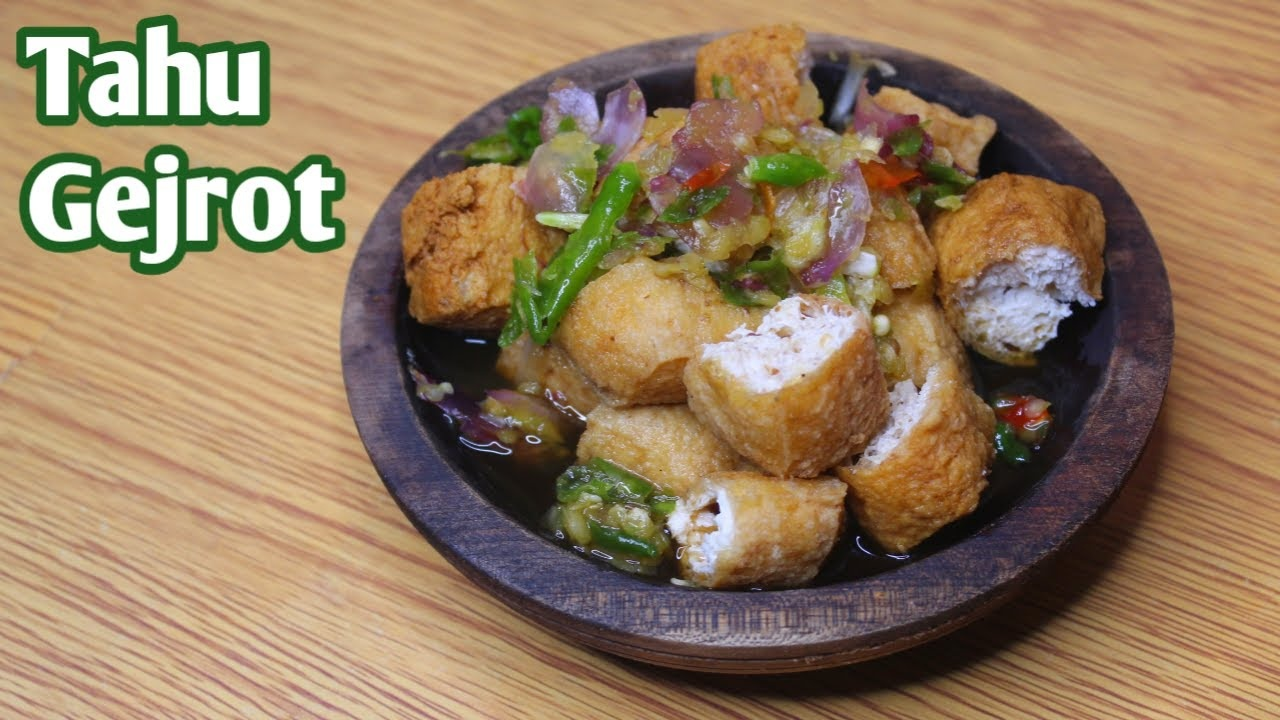tahu_gejrot: (395, 21, 1110, 597)
